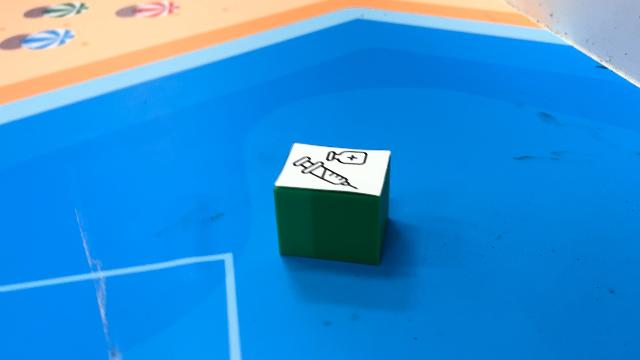syringe: (273, 141, 391, 265)
